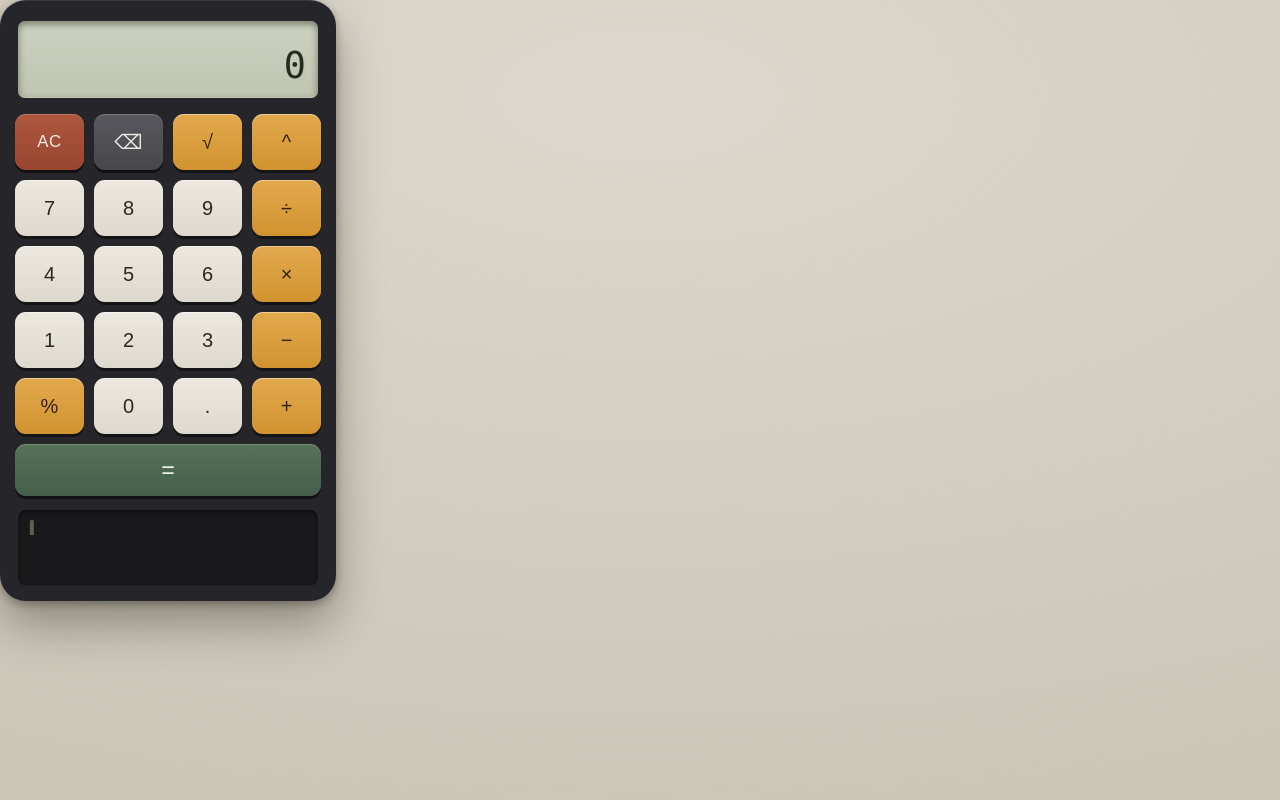
Test: Calculator › computes 2 + 3 = 5 through clicks
The width and height of the screenshot is (1280, 800).
Click the button "2": (128, 340) x1=94 y1=312 x2=163 y2=368
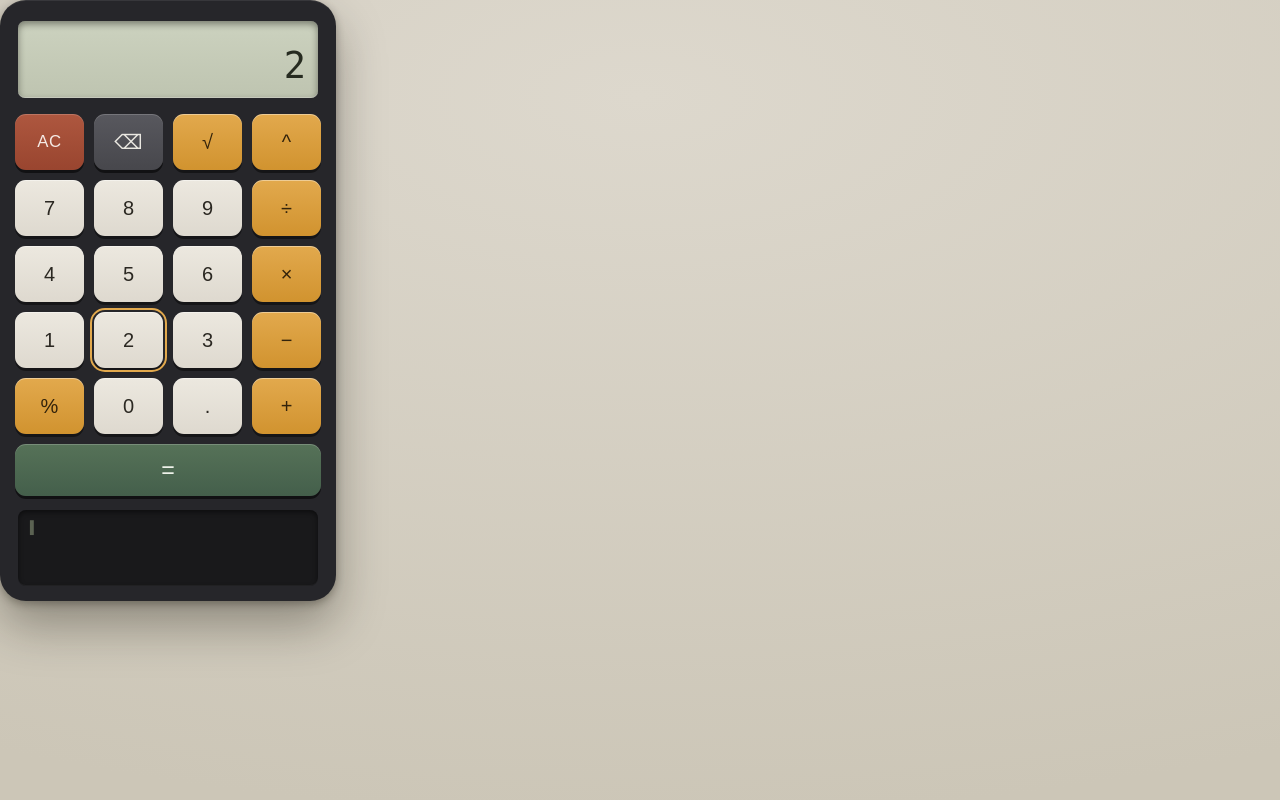
Click the button named "add": (286, 406) x1=252 y1=378 x2=321 y2=434
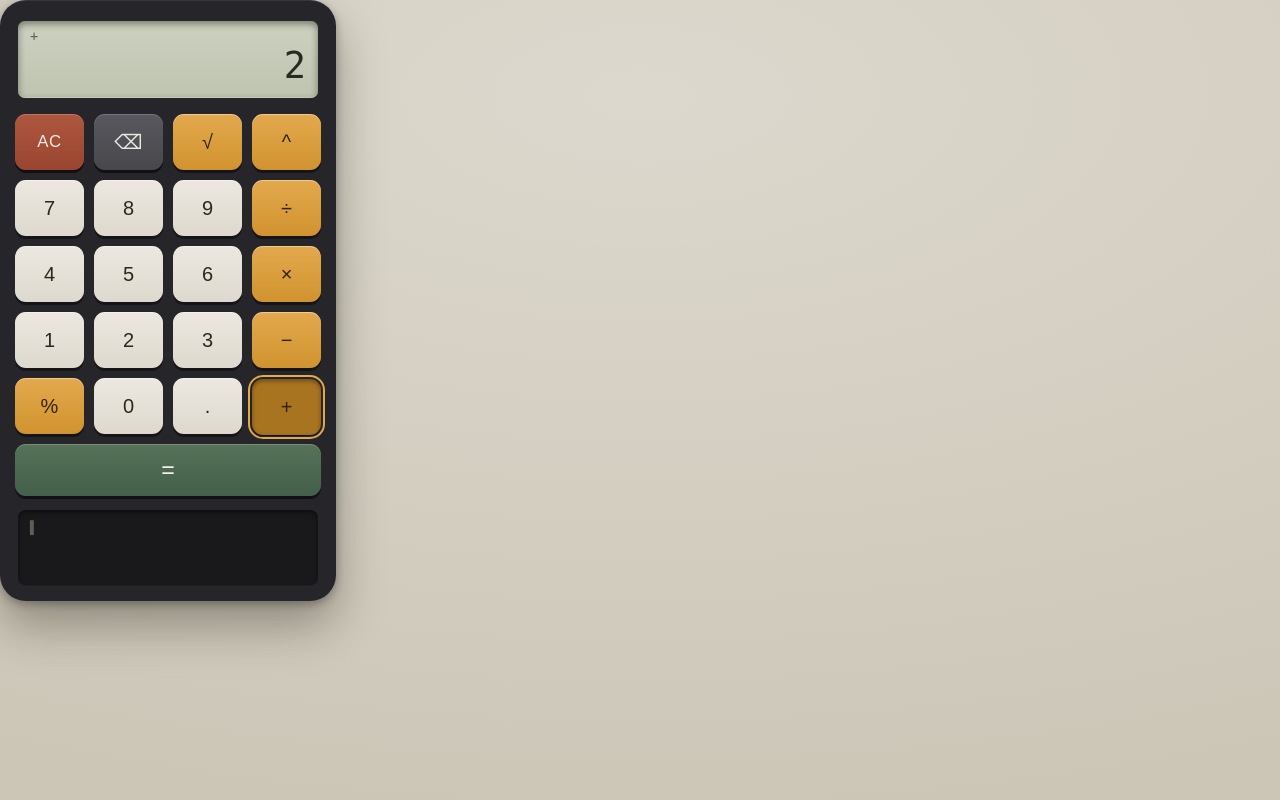
Click the button "3": (208, 340) x1=173 y1=312 x2=242 y2=368
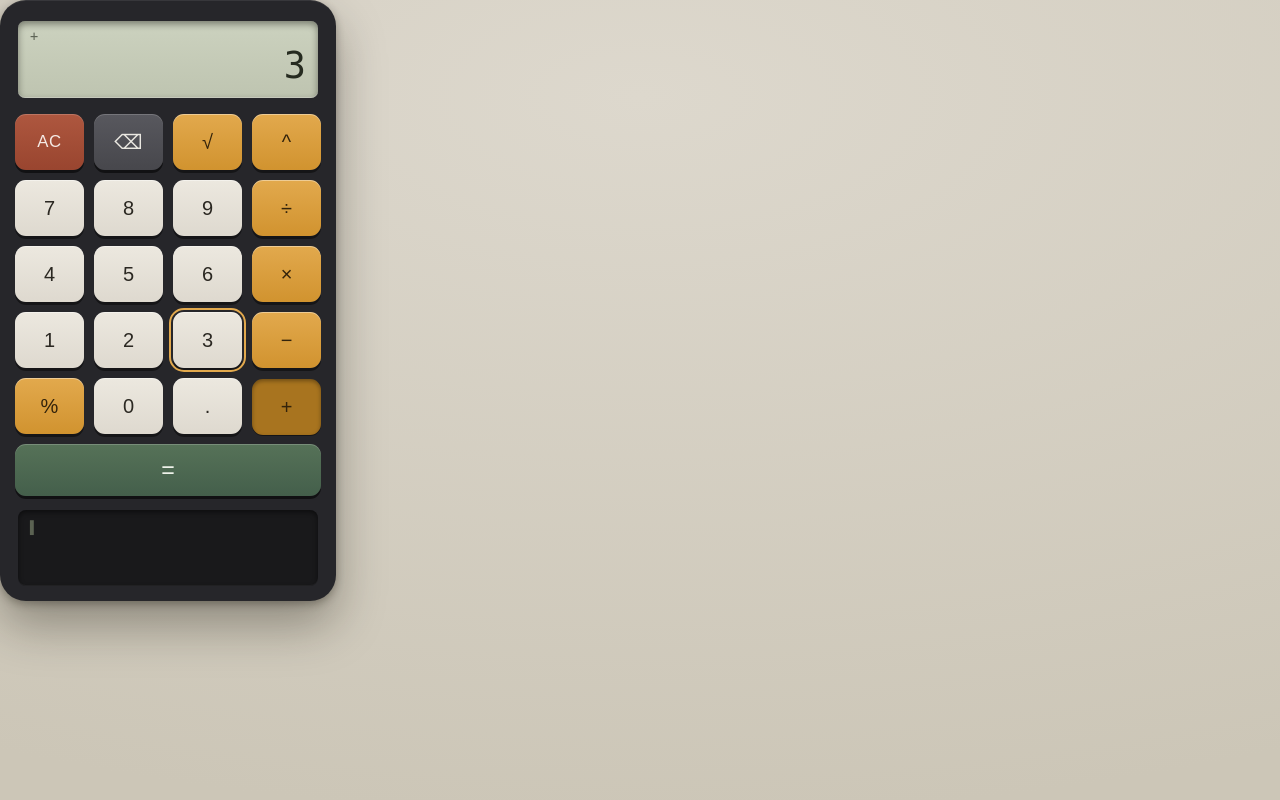
Click the button named "equals": (168, 470) x1=15 y1=444 x2=321 y2=496
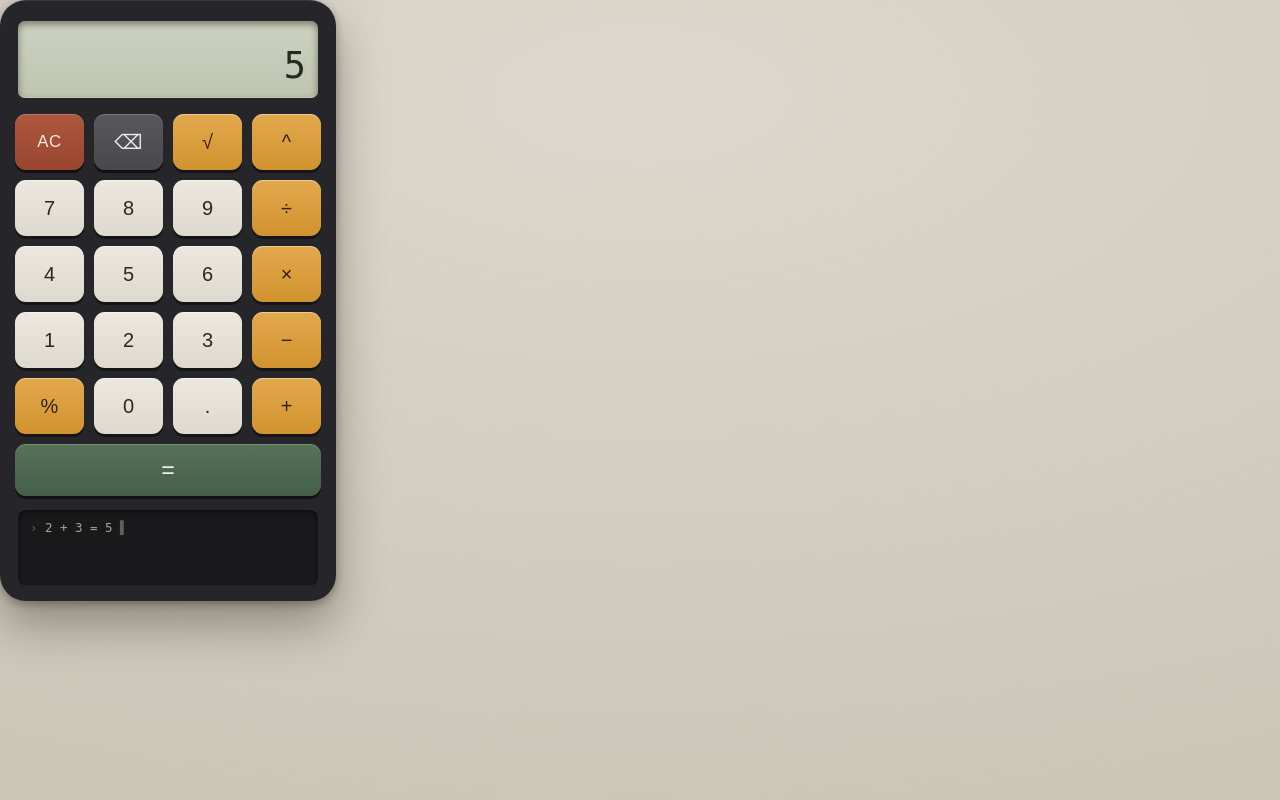
Result: the text "5" is shown at x1=284 y1=44 x2=306 y2=87
